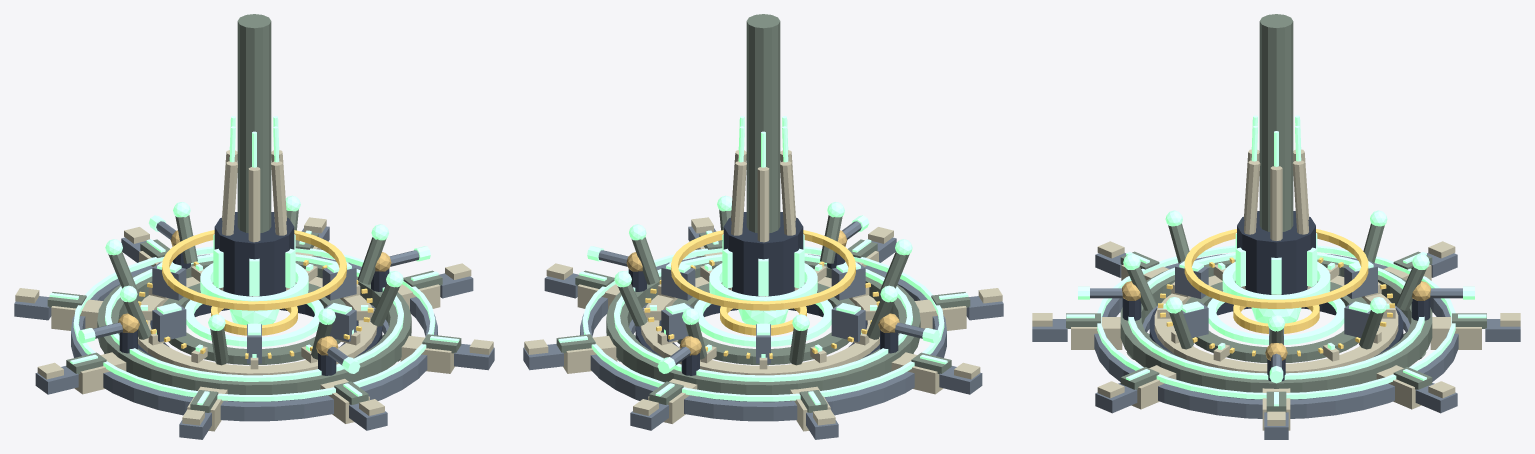
The model's file is relay_3_jupiter.glb.
The picture shows the model from 3 angles, left to right: view 1: azimuth 30°, elevation 25°; view 2: azimuth 150°, elevation 25°; view 3: azimuth 270°, elevation 25°; orthographic projection.
Visible parts, largest first — view 1: RLY_2, RLY_3, RLY_4, RLY_1, RLY_0, RLY_5, RLY_6; view 2: RLY_2, RLY_3, RLY_4, RLY_1, RLY_0, RLY_5, RLY_6; view 3: RLY_2, RLY_3, RLY_1, RLY_4, RLY_0, RLY_5, RLY_6.
Boxes of the visible parts, box(x1,y1,x2,y2) form: RLY_2: box(47, 14, 461, 412); RLY_3: box(49, 116, 459, 405); RLY_4: box(14, 221, 494, 439); RLY_1: box(15, 150, 493, 431); RLY_0: box(119, 212, 389, 375); RLY_5: box(138, 230, 373, 358); RLY_6: box(118, 230, 391, 355); RLY_2: box(556, 14, 970, 412); RLY_3: box(558, 116, 968, 405); RLY_4: box(523, 221, 1003, 439); RLY_1: box(524, 150, 1002, 431); RLY_0: box(628, 212, 898, 375); RLY_5: box(644, 230, 879, 358); RLY_6: box(626, 230, 899, 355); RLY_2: box(1066, 14, 1486, 412); RLY_3: box(1066, 115, 1486, 406); RLY_1: box(1032, 149, 1520, 430); RLY_4: box(1032, 253, 1520, 439); RLY_0: box(1122, 211, 1430, 381); RLY_5: box(1158, 229, 1394, 356); RLY_6: box(1122, 281, 1430, 360).
Size of the model in its own units: 10.48 by 8.01 by 10.48.
